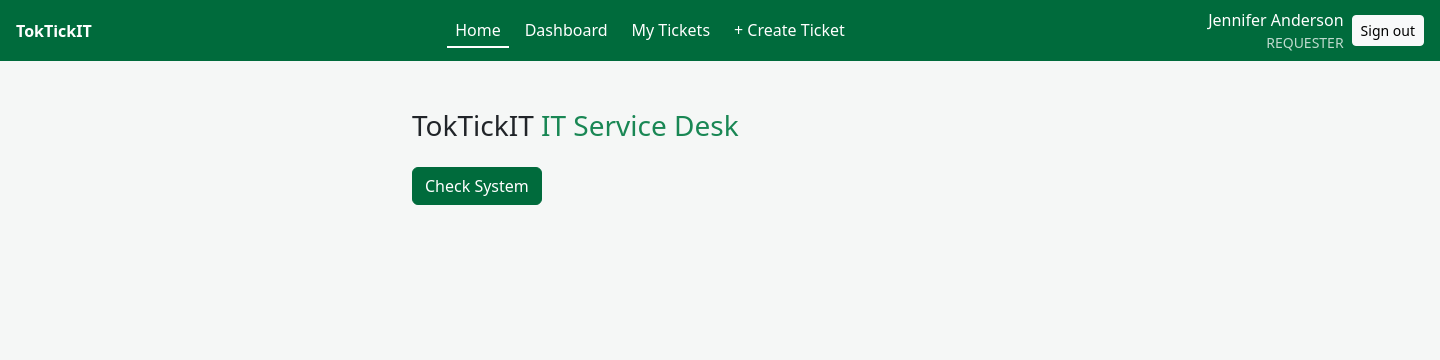
Test case: Lab 1 App regression inside the authenticated requester workspace › shows an Offline error message when the API is unavailable
The width and height of the screenshot is (1440, 360).
Click the button "Check System".
click(477, 186)  # box left=412, top=167, right=542, bottom=205
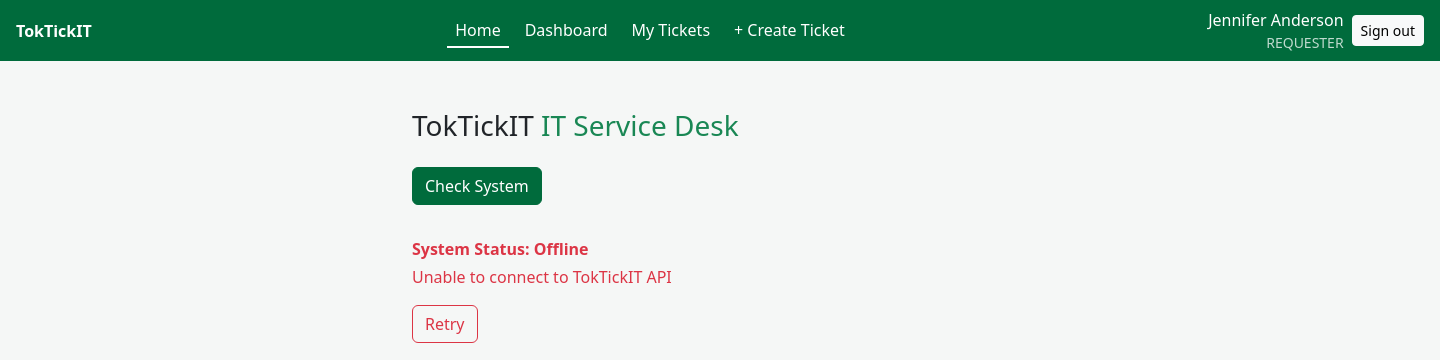
Expected: the text "System Status: Offline" is shown, left=412, top=238, right=588, bottom=260
Expected: the text "Unable to connect to TokTickIT API" is shown, left=412, top=266, right=672, bottom=288
